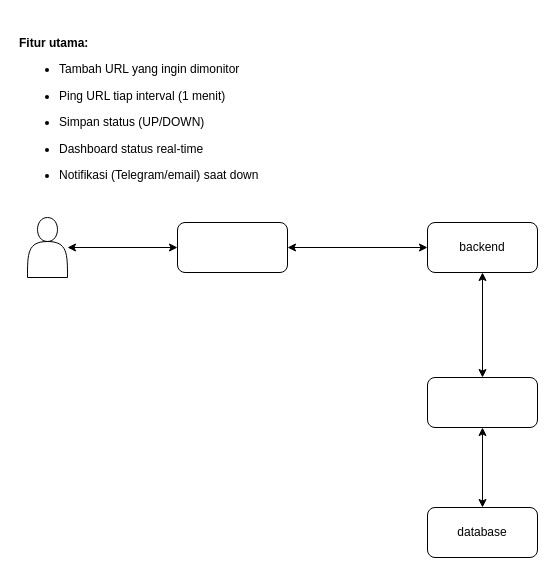
The diagram is 555 pixels wide and 575 high, and some of its shapes have lost their labels. Here are the shapes that lost their labels. From the top down, the centre of each, then its label:
the point at 232,247: frontend
the point at 482,402: ping scheduler
